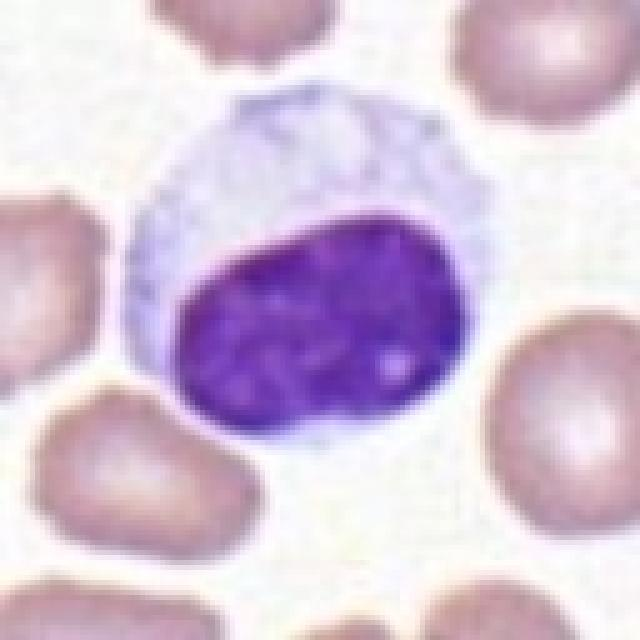lympho: (119, 75, 501, 445)
